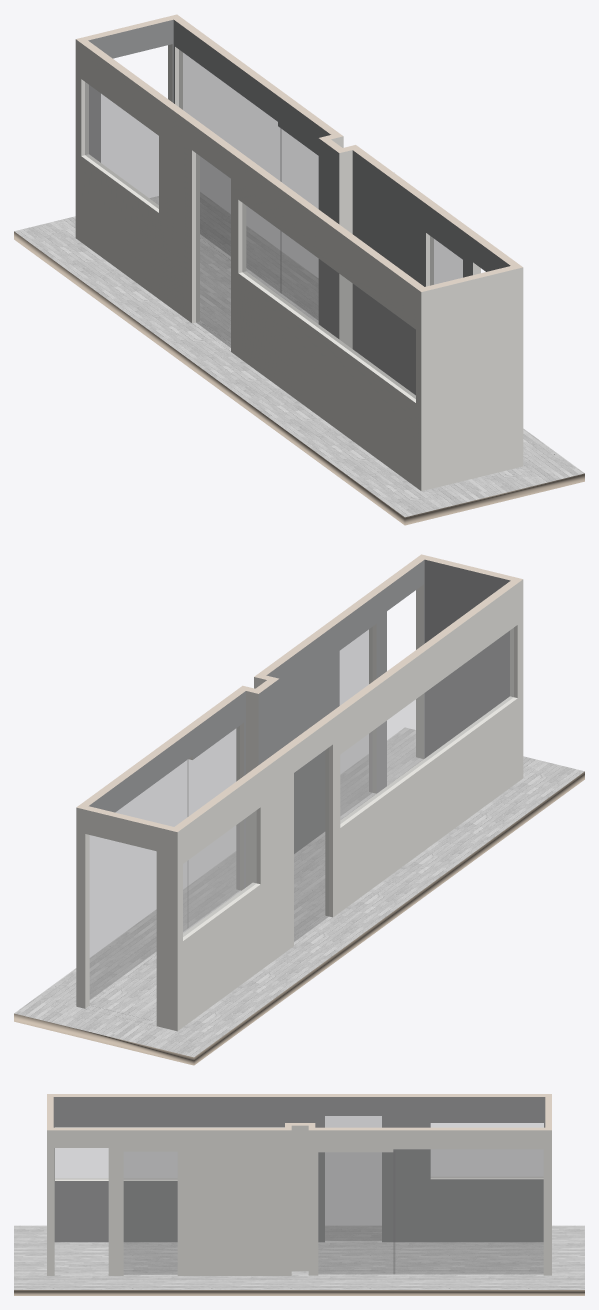
The model's file is Nov17at8-17AM-poly.fbx.
3 renders of one model, top to bottom at view 1: azimuth 30°, elevation 25°; view 2: azimuth 150°, elevation 25°; view 3: azimuth 270°, elevation 25°, orthographic. The views are drawn at different scales.
Parts seen in each view (by area): view 1: wall_0-1.wall_7-1.wall_0-3.wall_6-3.wall_1-1.wall_6-1.wall_6, floor_0-0, wall_7-0.wall_5-0.wall_1-0.wall_4-0.wall_3-0.wall_0-0, door_1.door_2.door_3.door_0, window_1.window_0, wall_0-2.wall_6-2.wall_3-2.wall_2-2.wall_5-2.wall_4-2.wall_1, floor_0-1; view 2: wall_0-1.wall_7-1.wall_0-3.wall_6-3.wall_1-1.wall_6-1.wall_6, floor_0-0, door_1.door_2.door_3.door_0, wall_7-0.wall_5-0.wall_1-0.wall_4-0.wall_3-0.wall_0-0, window_1.window_0, wall_0-2.wall_6-2.wall_3-2.wall_2-2.wall_5-2.wall_4-2.wall_1, floor_0-1; view 3: door_1.door_2.door_3.door_0, wall_7-0.wall_5-0.wall_1-0.wall_4-0.wall_3-0.wall_0-0, wall_0-1.wall_7-1.wall_0-3.wall_6-3.wall_1-1.wall_6-1.wall_6, floor_0-0, window_1.window_0, wall_0-2.wall_6-2.wall_3-2.wall_2-2.wall_5-2.wall_4-2.wall_1, floor_0-1.
Boxes of the visible parts, bbox=[...] form: wall_0-1.wall_7-1.wall_0-3.wall_6-3.wall_1-1.wall_6-1.wall_6: bbox=[75, 39, 523, 491]; floor_0-0: bbox=[14, 192, 584, 517]; wall_7-0.wall_5-0.wall_1-0.wall_4-0.wall_3-0.wall_0-0: bbox=[88, 19, 510, 394]; door_1.door_2.door_3.door_0: bbox=[179, 50, 462, 347]; window_1.window_0: bbox=[85, 82, 415, 398]; wall_0-2.wall_6-2.wall_3-2.wall_2-2.wall_5-2.wall_4-2.wall_1: bbox=[76, 14, 522, 291]; floor_0-1: bbox=[14, 231, 584, 525]; wall_0-1.wall_7-1.wall_0-3.wall_6-3.wall_1-1.wall_6-1.wall_6: bbox=[76, 579, 523, 1031]; floor_0-0: bbox=[14, 727, 584, 1057]; door_1.door_2.door_3.door_0: bbox=[90, 627, 372, 999]; wall_7-0.wall_5-0.wall_1-0.wall_4-0.wall_3-0.wall_0-0: bbox=[89, 559, 510, 888]; window_1.window_0: bbox=[183, 628, 513, 936]; wall_0-2.wall_6-2.wall_3-2.wall_2-2.wall_5-2.wall_4-2.wall_1: bbox=[76, 554, 522, 831]; floor_0-1: bbox=[14, 771, 584, 1065]; door_1.door_2.door_3.door_0: bbox=[124, 1116, 543, 1274]; wall_7-0.wall_5-0.wall_1-0.wall_4-0.wall_3-0.wall_0-0: bbox=[53, 1097, 545, 1242]; wall_0-1.wall_7-1.wall_0-3.wall_6-3.wall_1-1.wall_6-1.wall_6: bbox=[47, 1125, 551, 1275]; floor_0-0: bbox=[14, 1225, 584, 1289]; window_1.window_0: bbox=[55, 1123, 543, 1179]; wall_0-2.wall_6-2.wall_3-2.wall_2-2.wall_5-2.wall_4-2.wall_1: bbox=[47, 1094, 551, 1130]; floor_0-1: bbox=[14, 1290, 584, 1295].
Bounding box in the file's own units: 2.3 × 2.53 × 8.65.
Materials: 6 (1 with a texture image).
